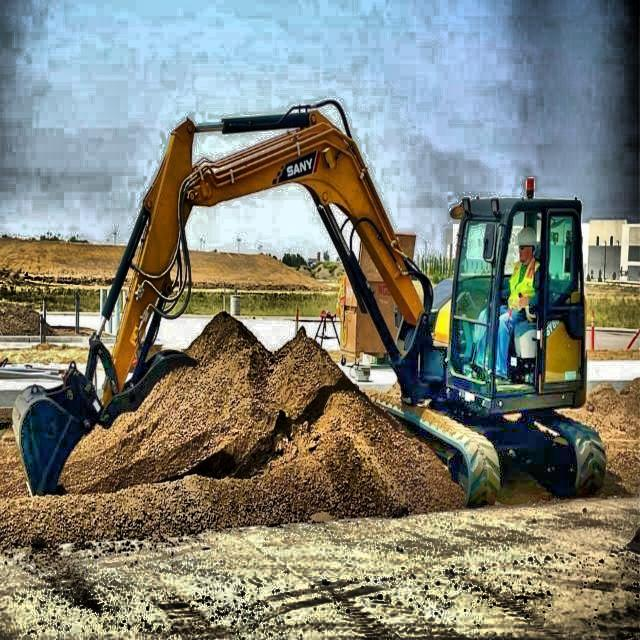excavator: (12, 95, 610, 510)
